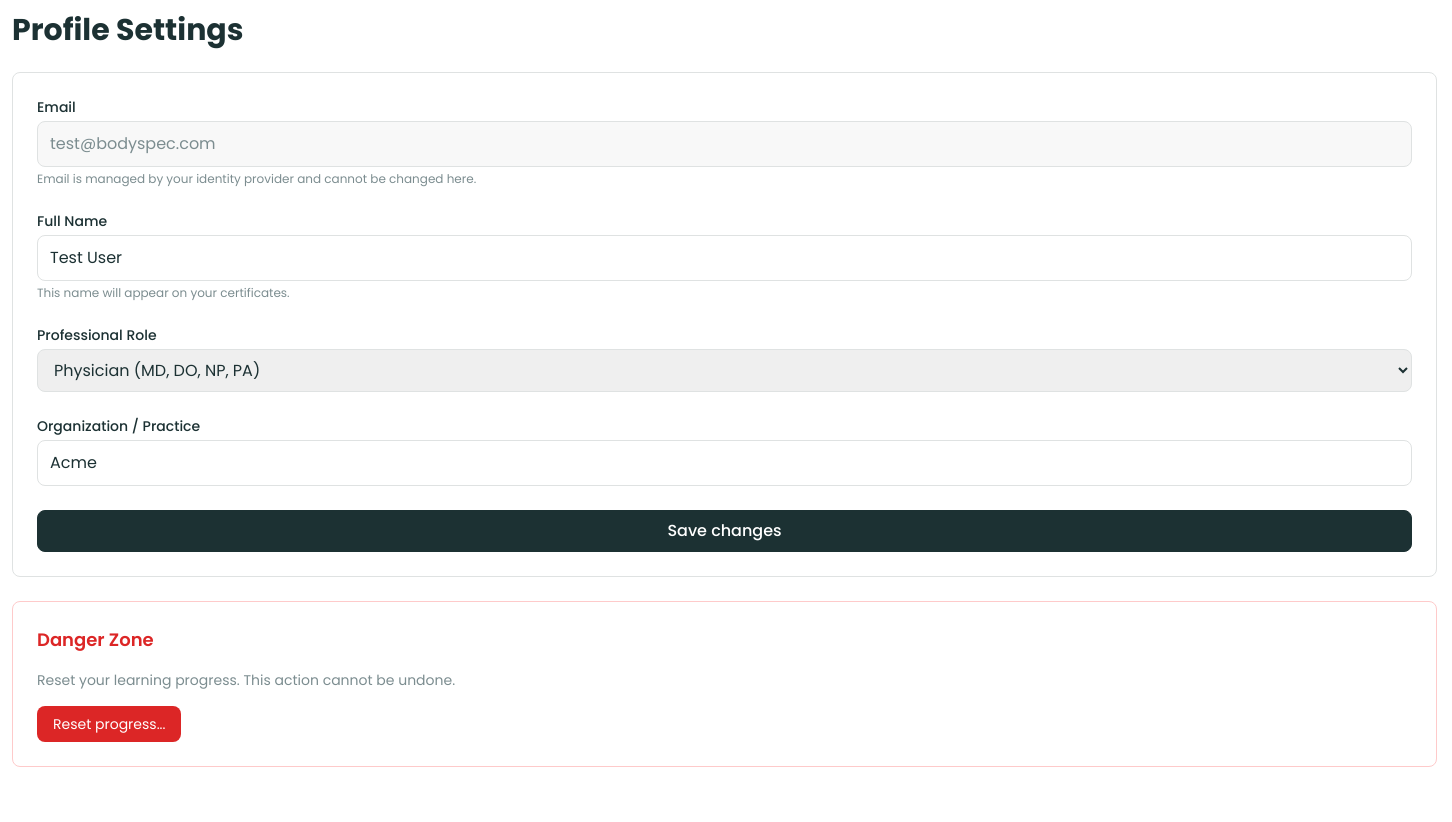
ProfilePage › shows success message on save
This screenshot has width=1452, height=822.
Click the button "Save changes".
click(724, 531)  # box x1=37 y1=510 x2=1412 y2=552
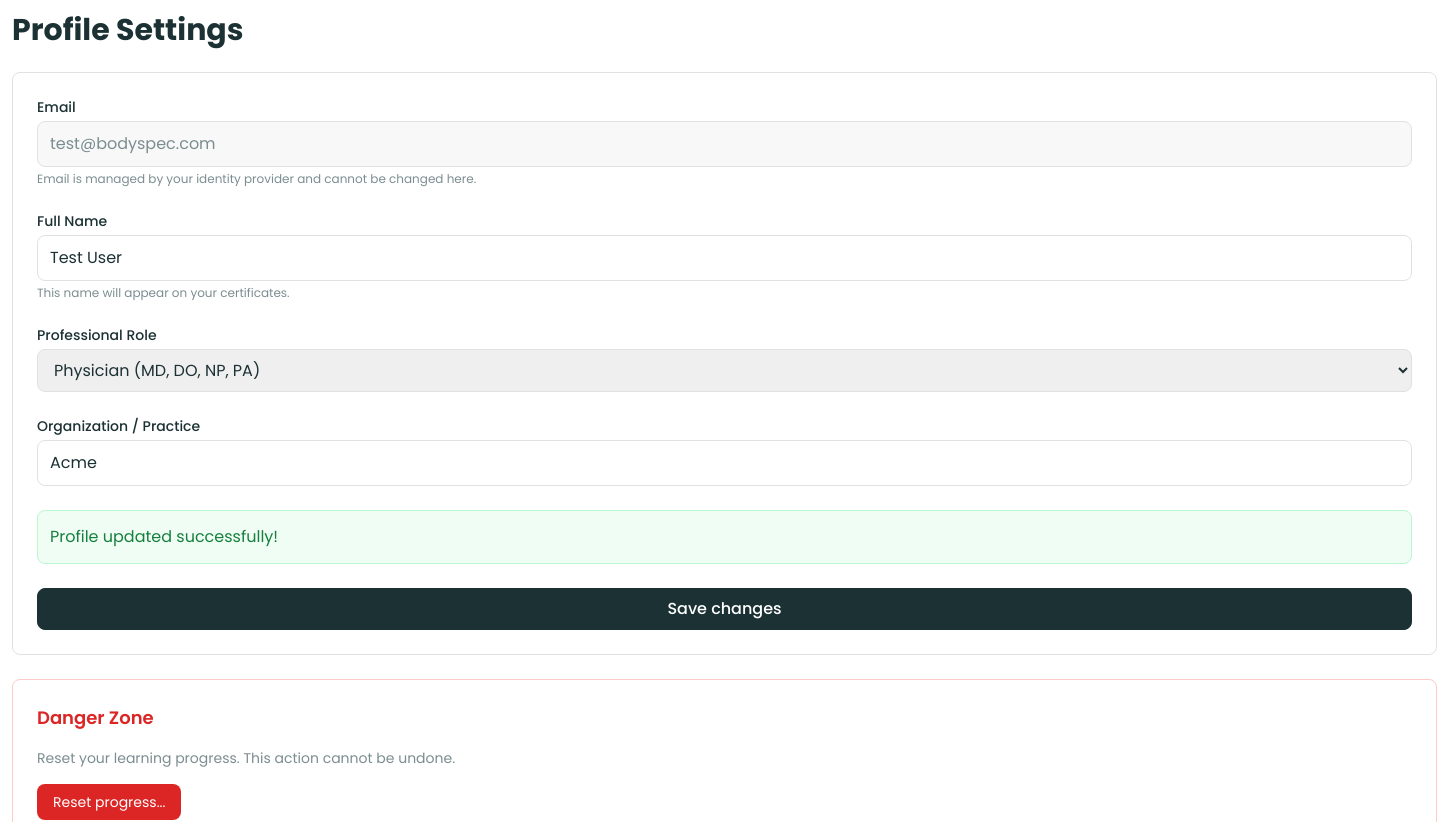
Result: the text "Profile updated successfully!" is shown at x1=37 y1=510 x2=1412 y2=564
